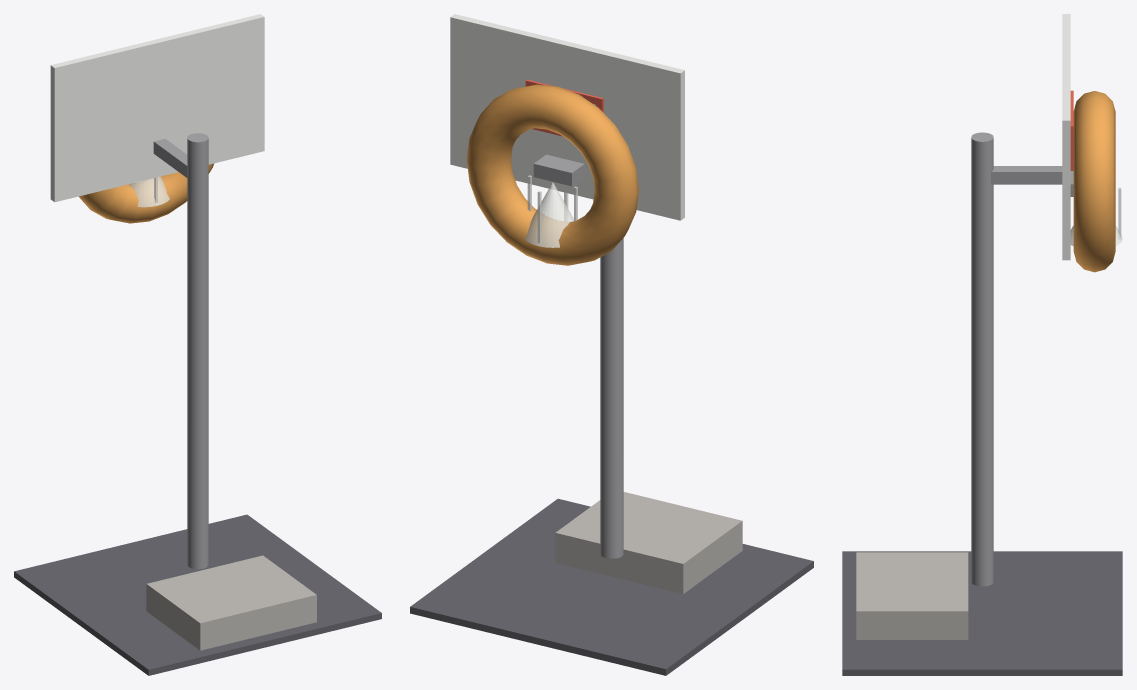
File: basketball_hoop.glb
3 renders of one model, left to right at view 1: azimuth 30°, elevation 25°; view 2: azimuth 150°, elevation 25°; view 3: azimuth 270°, elevation 25°, orthographic. The views are drawn at different scales.
Parts seen in each view (by area): view 1: backboard, pad, base, pole, rim, net, arm; view 2: pad, backboard, rim, base, pole, net, bracket; view 3: pad, pole, base, rim, backboard, arm.
Part boxes in pixels (bbox=[...]): backboard: bbox=[50, 14, 264, 202]; pad: bbox=[14, 514, 381, 675]; base: bbox=[146, 555, 316, 650]; pole: bbox=[187, 133, 208, 569]; rim: bbox=[78, 163, 214, 223]; net: bbox=[129, 176, 169, 207]; arm: bbox=[153, 138, 187, 177]; pad: bbox=[410, 498, 813, 675]; backboard: bbox=[450, 14, 684, 220]; rim: bbox=[466, 84, 638, 265]; base: bbox=[555, 492, 742, 593]; pole: bbox=[600, 238, 623, 558]; net: bbox=[524, 182, 573, 247]; bracket: bbox=[533, 154, 584, 186]; pad: bbox=[842, 551, 1122, 675]; pole: bbox=[971, 132, 993, 586]; base: bbox=[856, 552, 968, 639]; rim: bbox=[1073, 91, 1115, 272]; backboard: bbox=[1062, 14, 1070, 260]; arm: bbox=[991, 166, 1062, 184].
Size of the model in its own units: 2 by 4.35 by 2.
